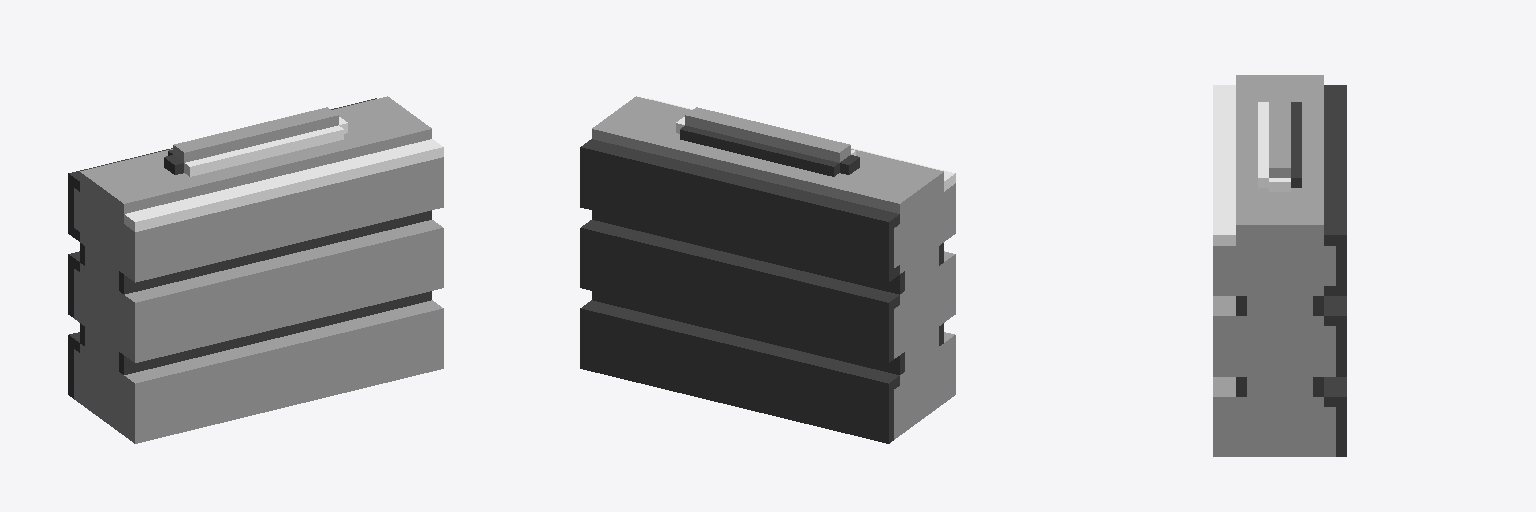
3 renders of one model, left to right at view 1: azimuth 30°, elevation 25°; view 2: azimuth 150°, elevation 25°; view 3: azimuth 270°, elevation 25°, orthographic.
Bounding box in the file's own units: 32 × 25 × 12.
Materials: 1 (1 with a texture image).